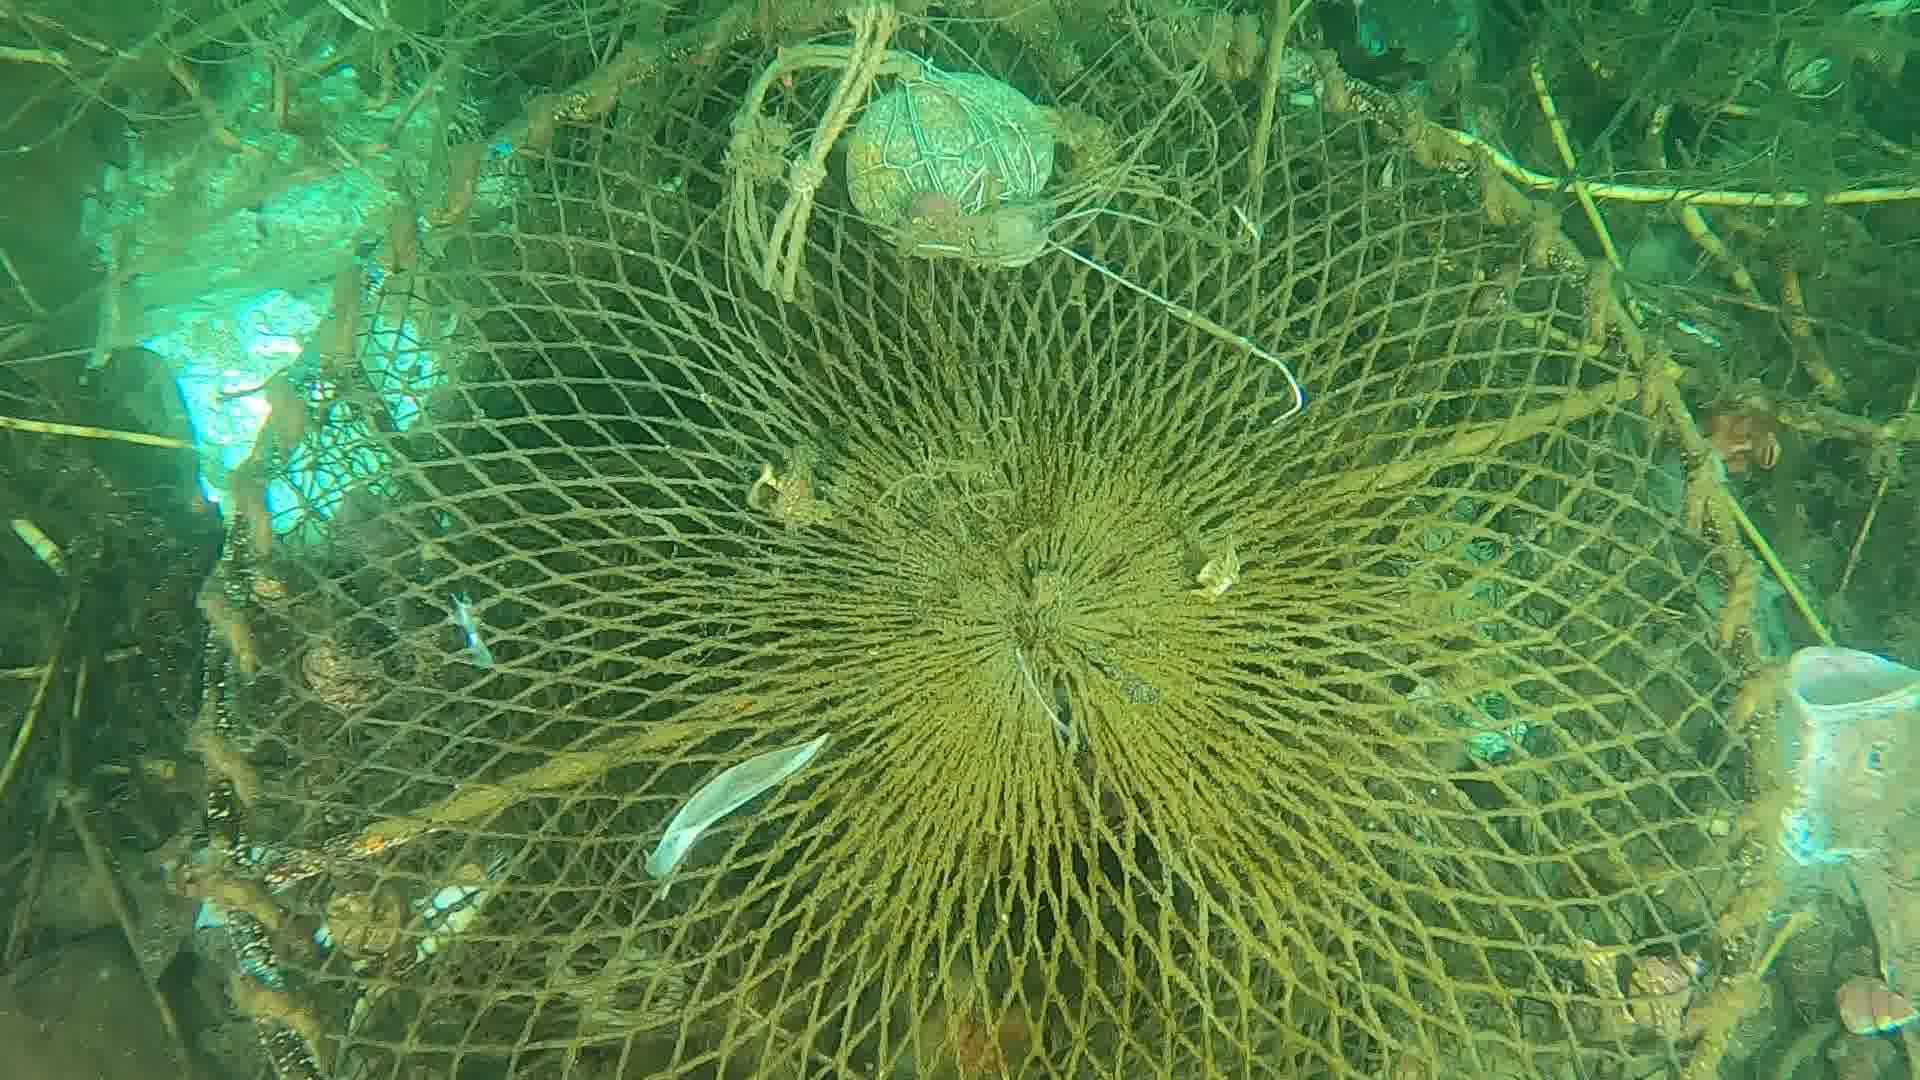circular fish trap: (190, 0, 1795, 1080)
